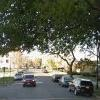Tree: (12, 1, 100, 68)
